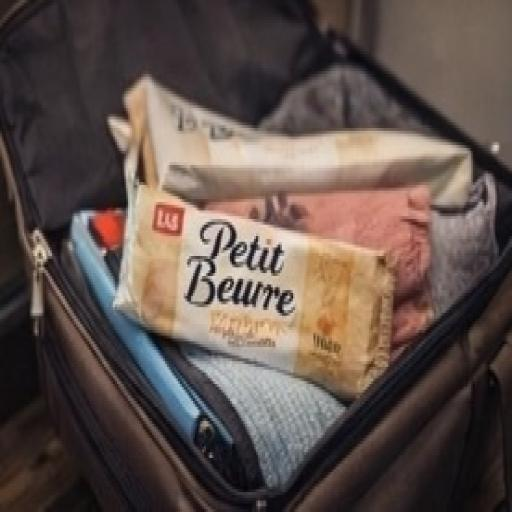petit-beurre: (104, 167, 424, 427)
